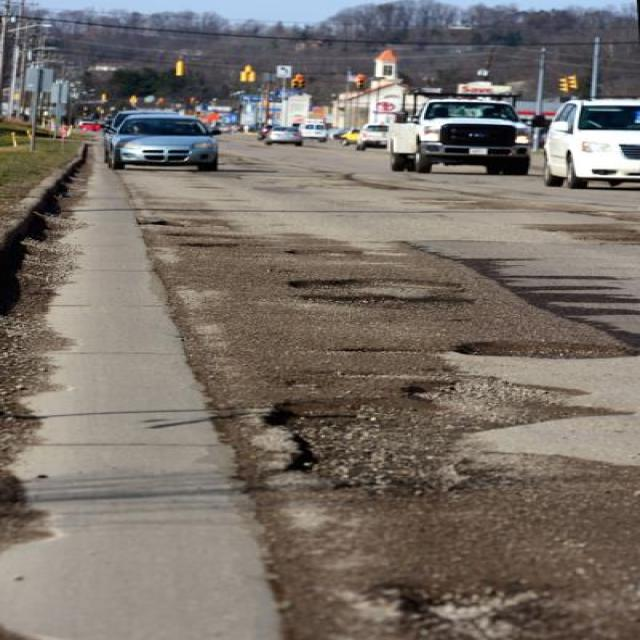pothole1: (241, 368, 528, 500), (368, 550, 568, 634), (455, 328, 640, 372), (300, 273, 490, 313), (280, 235, 374, 264)
